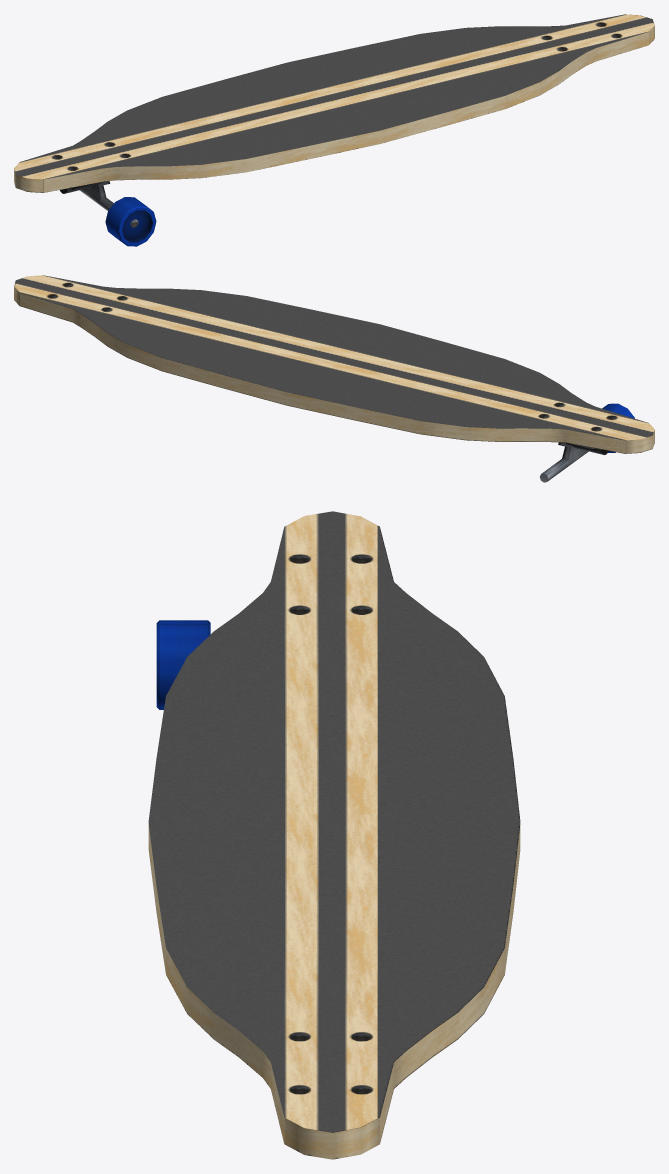
File: SkateBoard05.fbx
The picture shows the model from 3 angles, top to bottom: view 1: azimuth 30°, elevation 25°; view 2: azimuth 150°, elevation 25°; view 3: azimuth 270°, elevation 25°; orthographic projection. The views are drawn at different scales.
Parts seen in each view (by area): view 1: Board, Wheel1, BoardBase; view 2: Board, BoardBase; view 3: Board, Wheel1.
Part boxes in pixels (x1,y1,x2,y2): Board: (14,14,654,192); Wheel1: (105,197,156,246); BoardBase: (60,181,113,210); Board: (14,275,654,453); BoardBase: (540,442,608,482); Board: (148,511,520,1159); Wheel1: (156,620,210,709).
Bounding box in the file's own units: 0.699 × 0.0622 × 0.1768.
